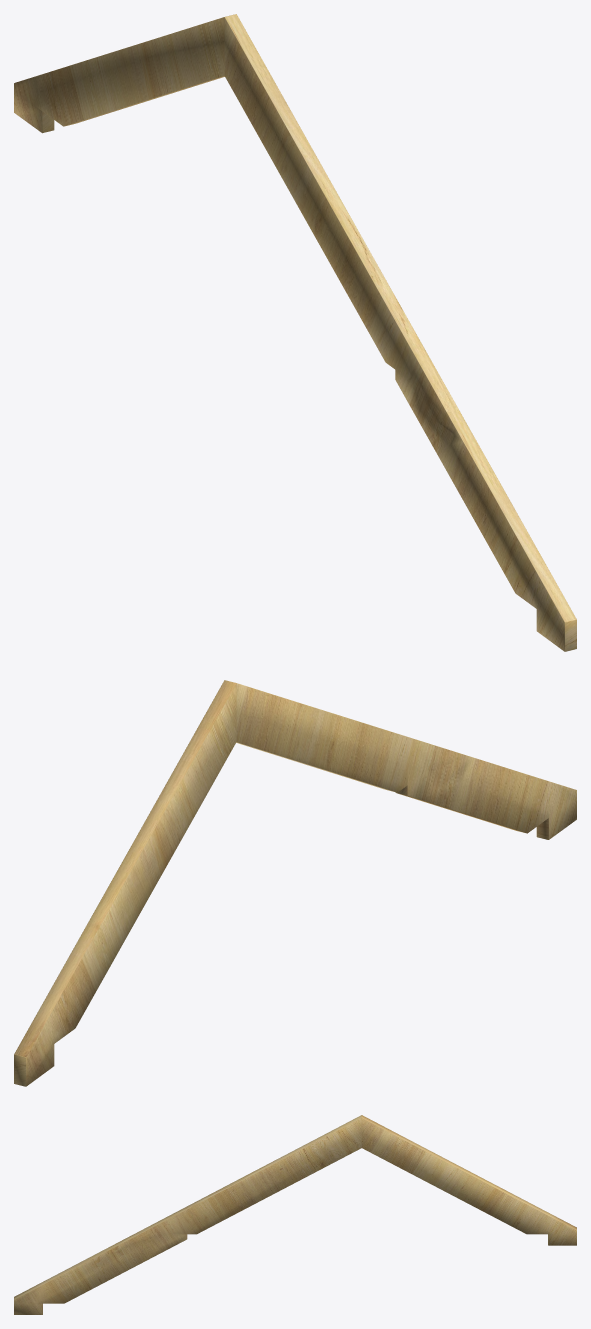
3 renders of one model, top to bottom at view 1: azimuth 30°, elevation 25°; view 2: azimuth 150°, elevation 25°; view 3: azimuth 270°, elevation 25°, orthographic. The views are drawn at different scales.
Parts seen in each view (by area): view 1: 2roof_bulk_0; view 2: 2roof_bulk_0; view 3: 2roof_bulk_0.
Boxes of the visible parts, x1,y1,x2,y2 form: 2roof_bulk_0: [14, 14, 576, 651]; 2roof_bulk_0: [14, 680, 576, 1086]; 2roof_bulk_0: [14, 1115, 576, 1314].
Bounding box in the file's own units: 0.0506 × 1.51 × 3.9.
1 material, 1 textured.
